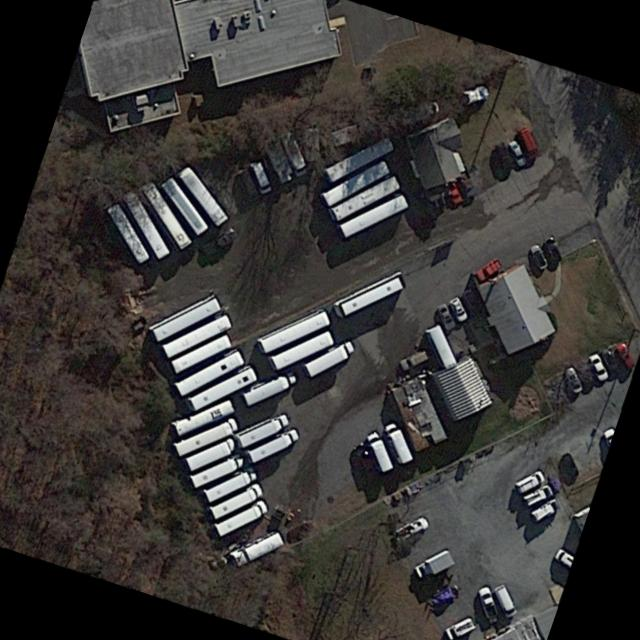large-vehicle: (141, 182, 192, 249), (122, 188, 169, 259), (150, 295, 221, 341), (176, 348, 245, 395), (334, 272, 405, 317), (322, 159, 391, 205), (162, 313, 231, 359), (325, 135, 395, 180), (179, 164, 230, 225), (259, 311, 331, 353), (187, 368, 258, 410), (332, 177, 399, 221), (338, 194, 406, 237), (162, 175, 209, 237), (107, 202, 150, 264), (174, 417, 238, 456), (271, 332, 334, 371), (174, 400, 235, 435), (214, 499, 268, 538), (230, 530, 285, 567), (204, 467, 257, 503), (244, 370, 297, 405), (304, 340, 354, 377), (249, 426, 300, 462), (189, 454, 243, 488), (211, 484, 263, 519), (238, 413, 288, 448), (276, 127, 310, 177), (412, 547, 458, 583), (186, 439, 237, 471), (390, 98, 440, 126), (366, 432, 395, 473), (386, 422, 414, 463), (443, 614, 476, 640)
small-vehicle: (201, 226, 241, 257), (391, 514, 430, 545), (476, 585, 499, 622), (493, 583, 517, 618), (516, 469, 547, 495), (397, 347, 429, 372), (521, 483, 554, 507), (250, 159, 272, 194), (474, 256, 503, 282), (490, 140, 514, 171), (517, 125, 540, 157), (533, 498, 561, 524), (558, 452, 581, 481), (457, 86, 489, 106), (507, 138, 528, 167), (588, 352, 608, 382), (543, 236, 563, 265), (448, 296, 469, 323), (616, 342, 635, 371), (563, 365, 582, 394), (437, 302, 456, 330), (529, 243, 547, 271), (603, 348, 621, 374)
